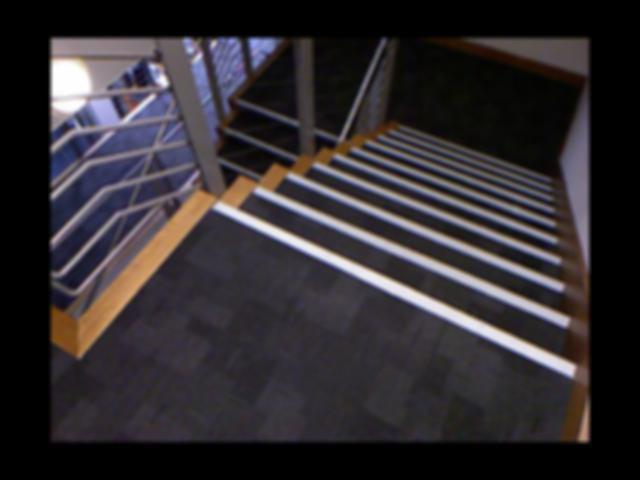Escaleras: (216, 117, 579, 374), (72, 105, 338, 361)
